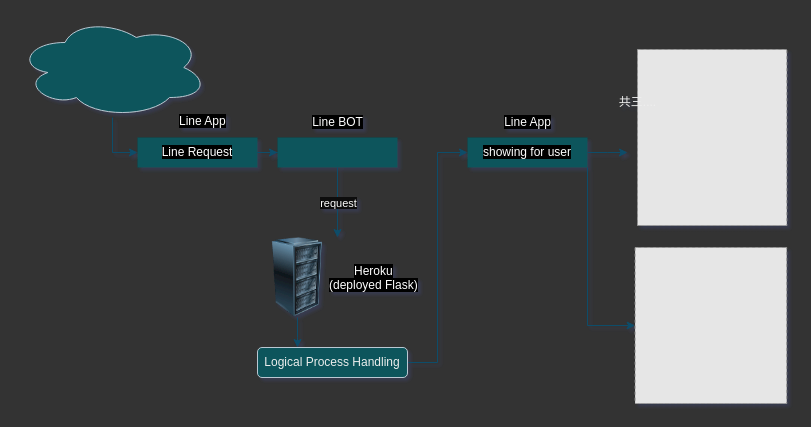
This 811x427 diagram has some shape labels left out. Grey dashed boxes stand in for pictures. The box of each missing label's shape, as (x1, y1, x2, y2) in pixels:
Call: /bltch: (277, 137, 397, 167)
Somebody suddently wants to take a order: (16, 16, 208, 118)
